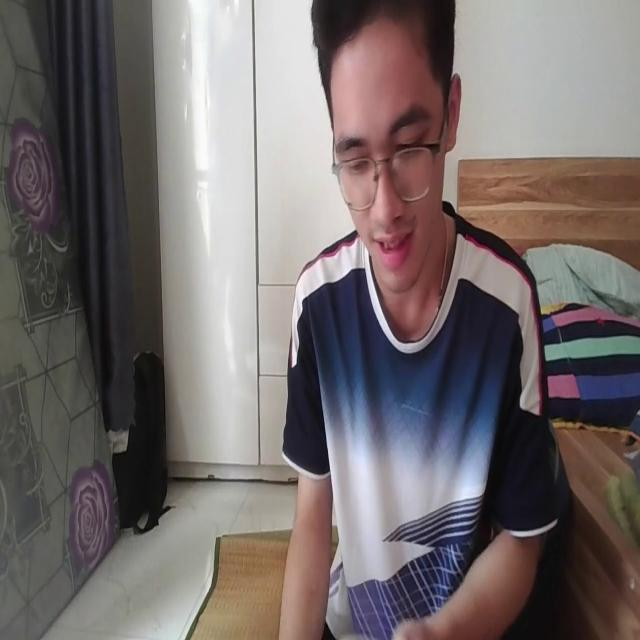student: (278, 1, 556, 640)
